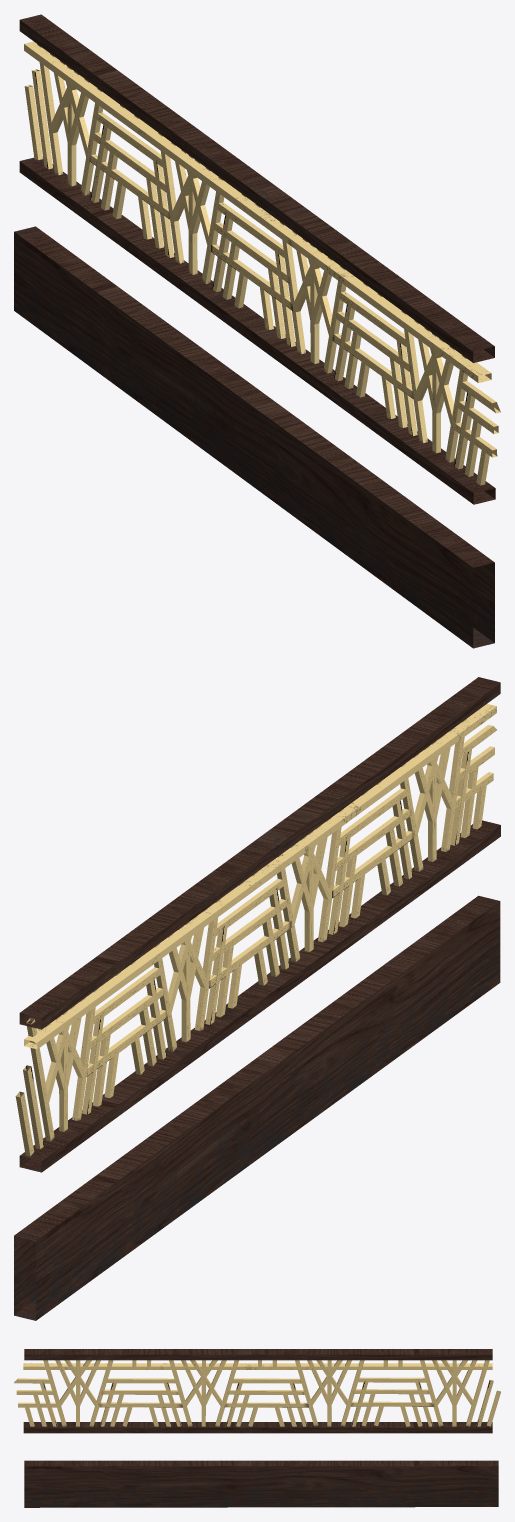
File: Mod_Rambarde_Stairs8A_Low.fbx
3 renders of one model, top to bottom at view 1: azimuth 30°, elevation 25°; view 2: azimuth 150°, elevation 25°; view 3: azimuth 270°, elevation 25°, orthographic. The views are drawn at different scales.
Parts seen in each view (by area): view 1: Mod_Rambarde_Strairs_A_low; view 2: Mod_Rambarde_Strairs_A_low; view 3: Mod_Rambarde_Strairs_A_low.
Boxes of the visible parts, bbox=[...] form: Mod_Rambarde_Strairs_A_low: bbox=[14, 14, 500, 648]; Mod_Rambarde_Strairs_A_low: bbox=[14, 677, 500, 1320]; Mod_Rambarde_Strairs_A_low: bbox=[14, 1349, 500, 1507].
Bounding box in the file's own units: 10 × 130 × 376.
1 material, 1 textured.
